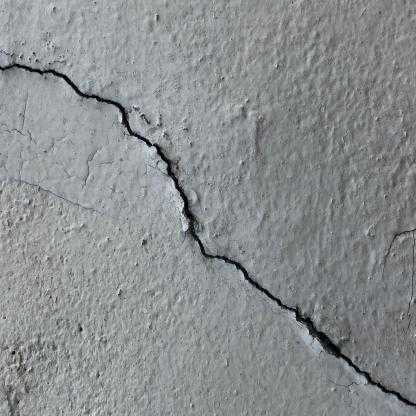crack: (0, 63, 415, 406)
